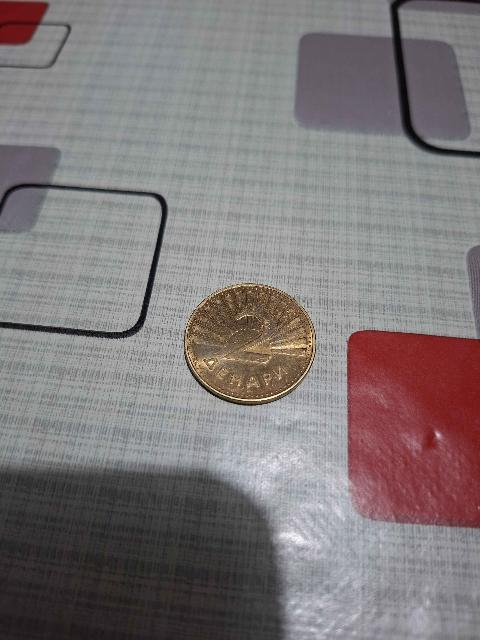2_coin: (185, 284, 315, 404)
